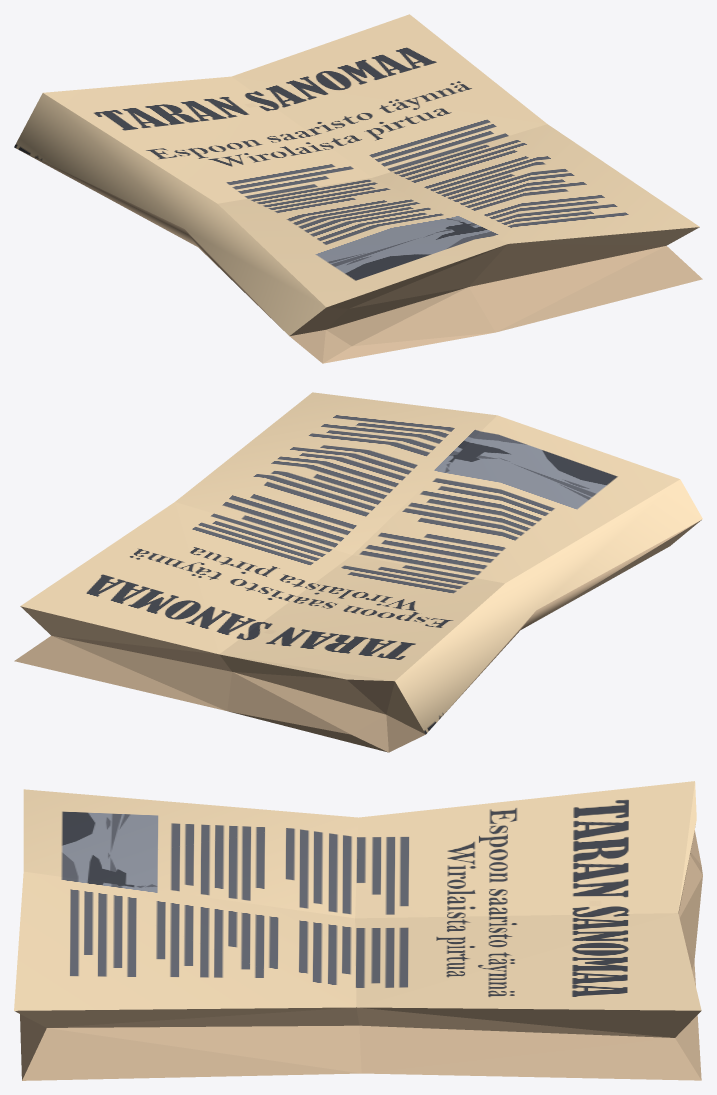
The model's file is newspaper_folded_taran_sanomaa.fbx.
3 renders of one model, top to bottom at view 1: azimuth 30°, elevation 25°; view 2: azimuth 150°, elevation 25°; view 3: azimuth 270°, elevation 25°, orthographic. The views are drawn at different scales.
Parts seen in each view (by area): view 1: newspaper_folded_taran_sanomaa; view 2: newspaper_folded_taran_sanomaa; view 3: newspaper_folded_taran_sanomaa.
Boxes of the visible parts, x1,y1,x2,y2 form: newspaper_folded_taran_sanomaa: (14, 14, 702, 363); newspaper_folded_taran_sanomaa: (14, 392, 702, 752); newspaper_folded_taran_sanomaa: (14, 781, 702, 1080).
Size of the model in its own units: 35.69 by 7.01 by 44.37.
